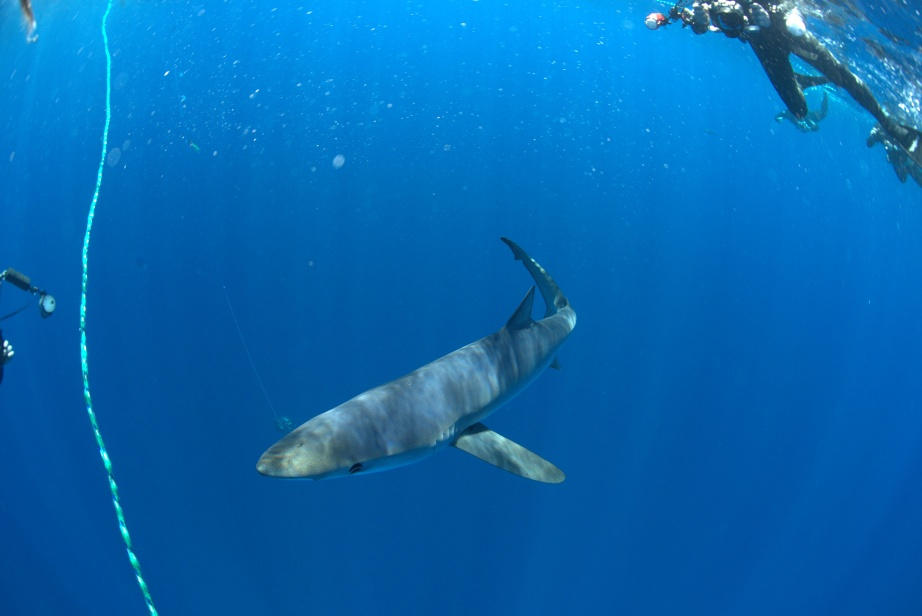Azul: (230, 217, 630, 510)
